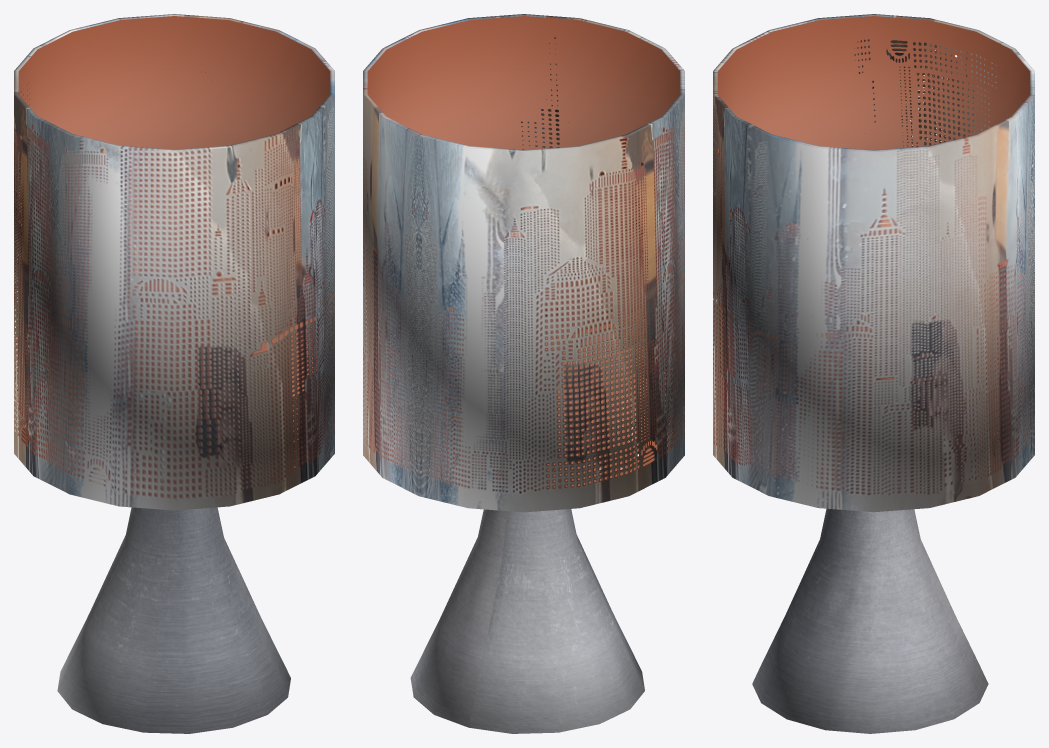
The model's file is lamp_d.FBX.
The picture shows the model from 3 angles, left to right: view 1: azimuth 30°, elevation 25°; view 2: azimuth 150°, elevation 25°; view 3: azimuth 270°, elevation 25°; orthographic projection.
Visible parts, largest first — view 1: Cylinder001, Cylinder002; view 2: Cylinder001, Cylinder002; view 3: Cylinder001, Cylinder002.
Boxes of the visible parts, x1,y1,x2,y2 form: Cylinder001: (14,14,334,510); Cylinder002: (57,507,290,733); Cylinder001: (363,14,684,512); Cylinder002: (410,320,644,733); Cylinder001: (713,14,1034,512); Cylinder002: (752,508,988,733).
Size of the model in its own units: 15.36 by 31.21 by 15.13.
Materials: 1 (1 with a texture image).
